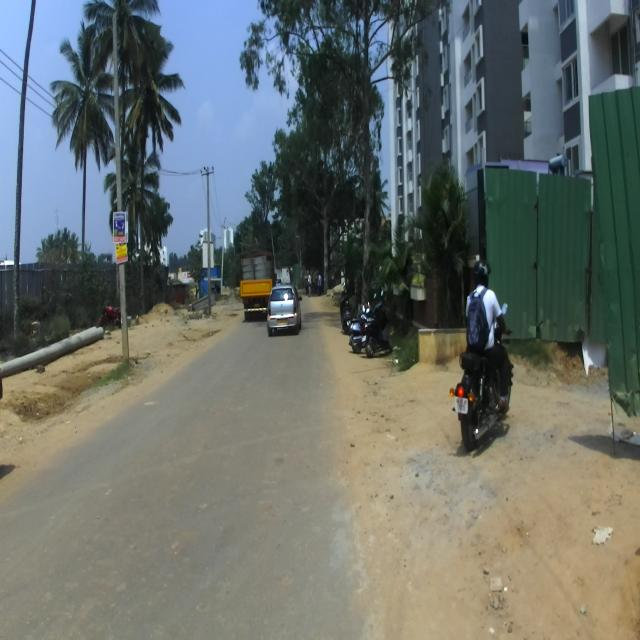electric pole ahead at: (105, 0, 136, 368)
motorcycle ahead at: (448, 340, 518, 442)
